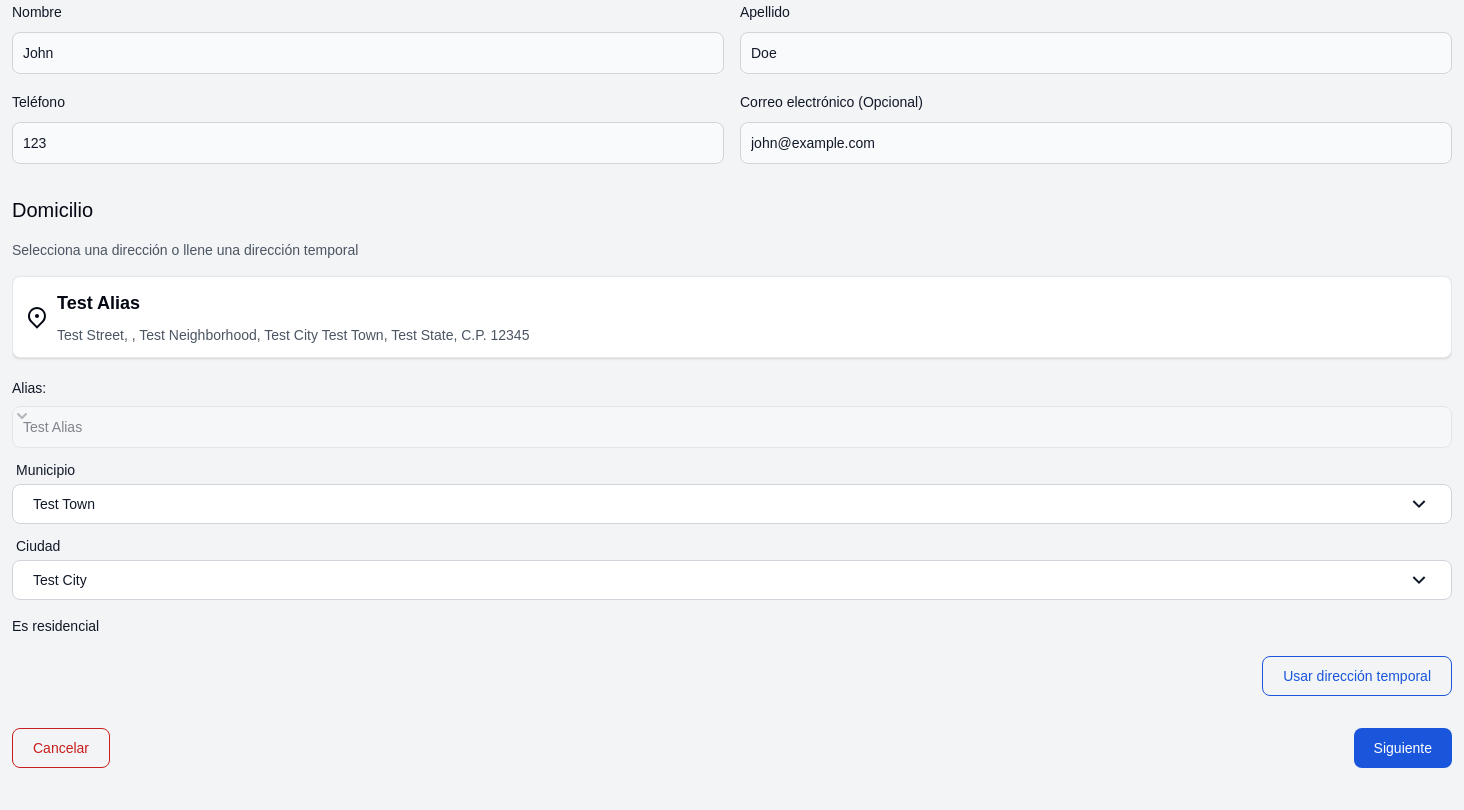
Test: Feature: Add Address for Pkk › Scenario: Display validation error for invalid phone format › Given phone with less than 10 digits, When user submits, Then it should show error
When user submits the form
Click the button with test id "origin-address-pkk-next-button": (1403,748) left=1354, top=728, right=1452, bottom=768
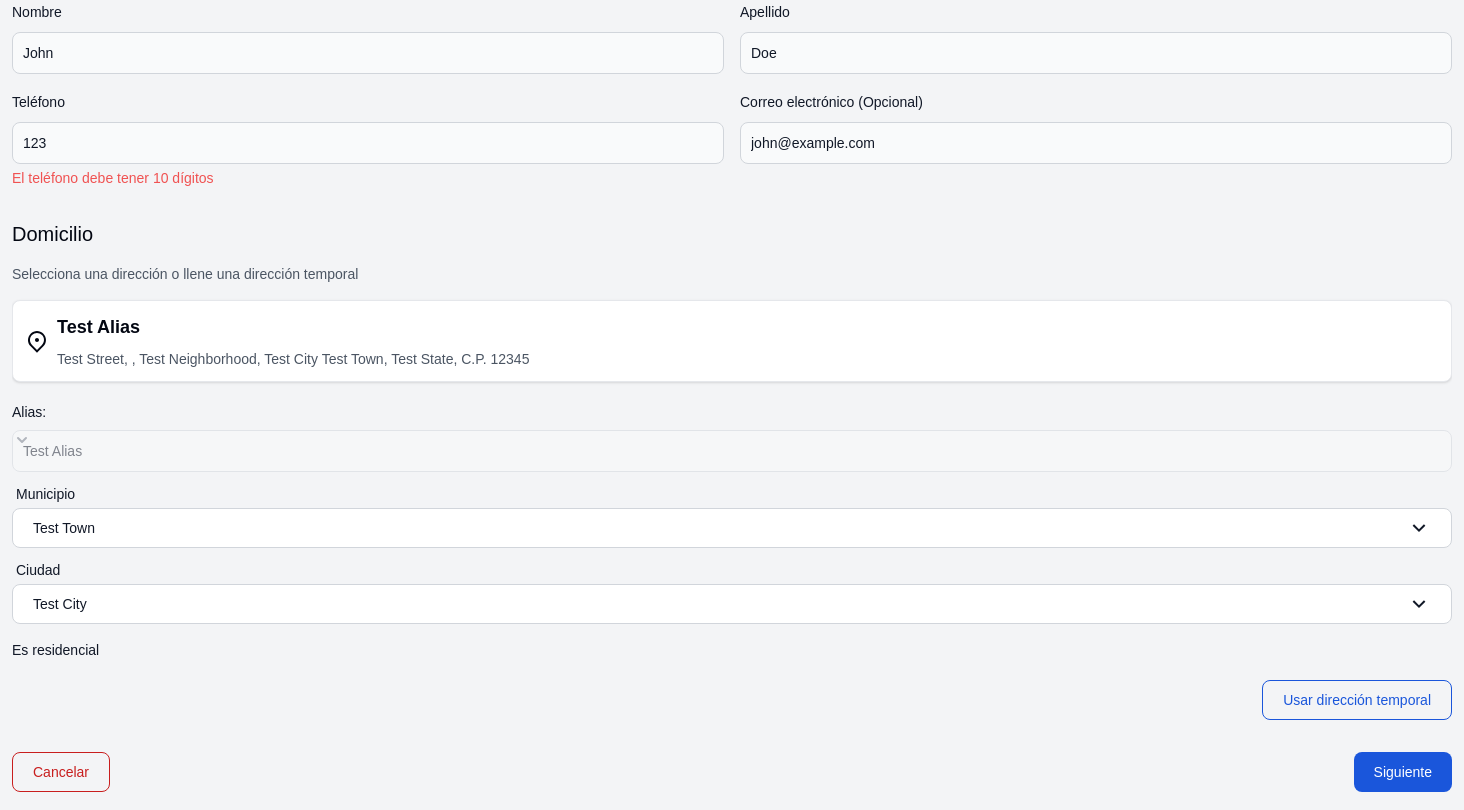
Check: the text "El teléfono debe tener 10 dígitos" is shown, box left=12, top=170, right=214, bottom=186
